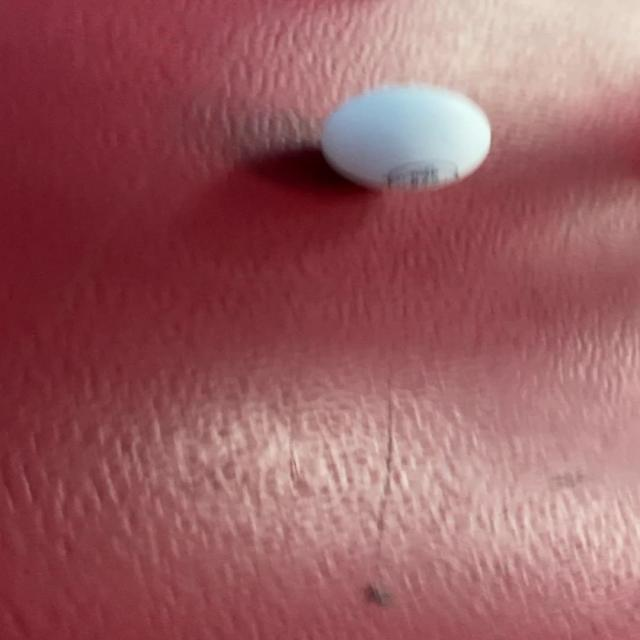ping-pong-ball: (288, 68, 532, 212)
